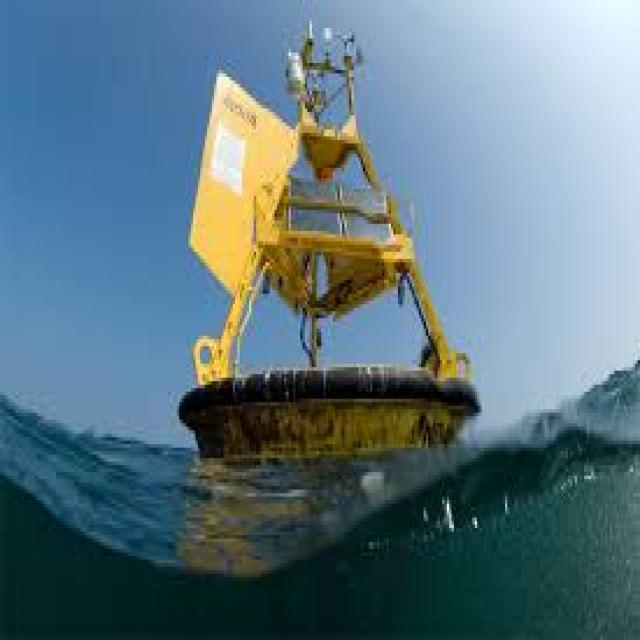marque: (158, 9, 487, 471)
